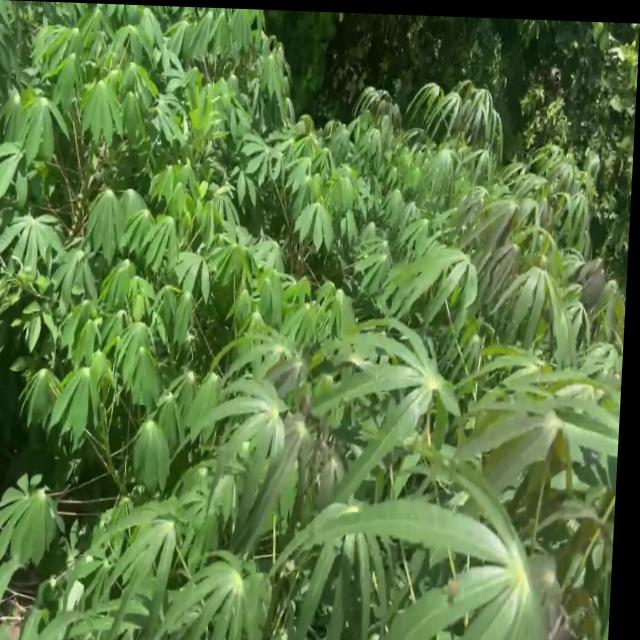Mosca: (92, 545, 128, 580), (432, 572, 467, 601), (133, 336, 151, 360), (79, 550, 98, 564), (360, 243, 373, 261)
